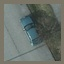car: (20, 15, 42, 47)
